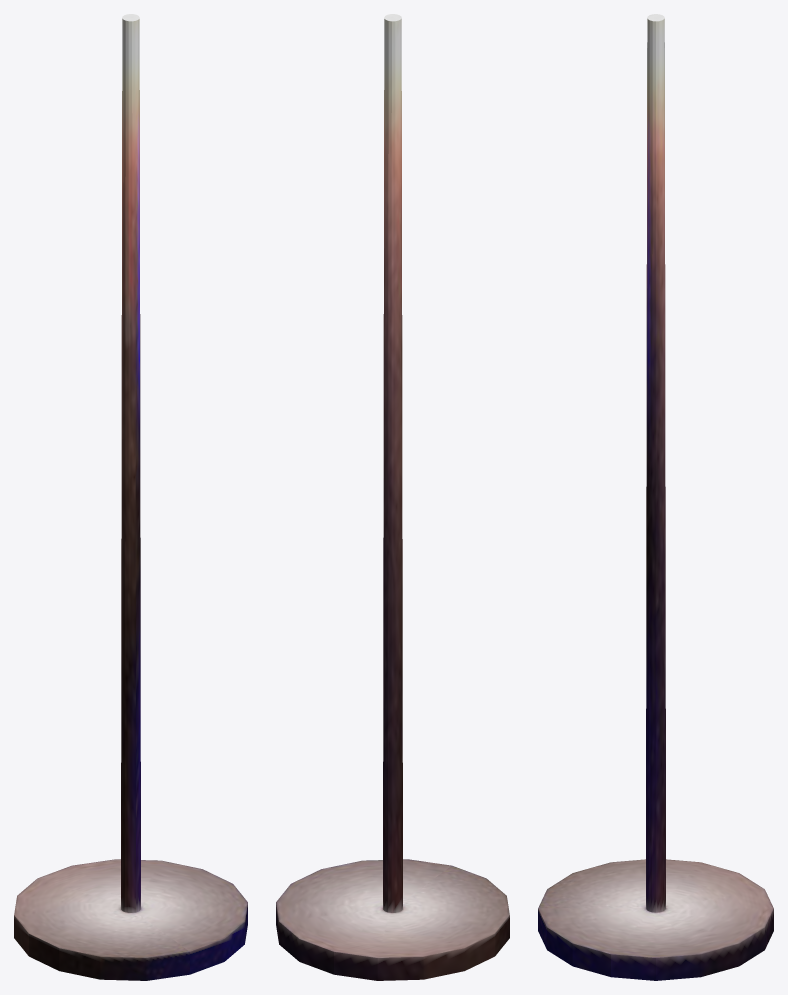
The model's file is lamp_base.glb.
3 renders of one model, left to right at view 1: azimuth 30°, elevation 25°; view 2: azimuth 150°, elevation 25°; view 3: azimuth 270°, elevation 25°, orthographic.
Parts seen in each view (by area): view 1: lamp_base; view 2: lamp_base; view 3: lamp_base.
Boxes of the visible parts, bbox=[...] form: lamp_base: bbox=[14, 14, 247, 980]; lamp_base: bbox=[276, 14, 509, 980]; lamp_base: bbox=[538, 14, 773, 980].
Bounding box in the file's own units: 2.57 × 11 × 2.57.
Materials: 1 (1 with a texture image).
